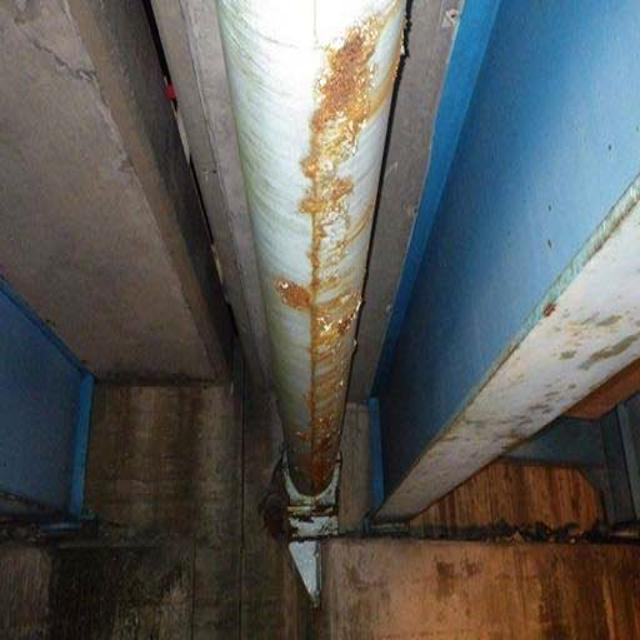corrosion: (264, 40, 427, 517)
